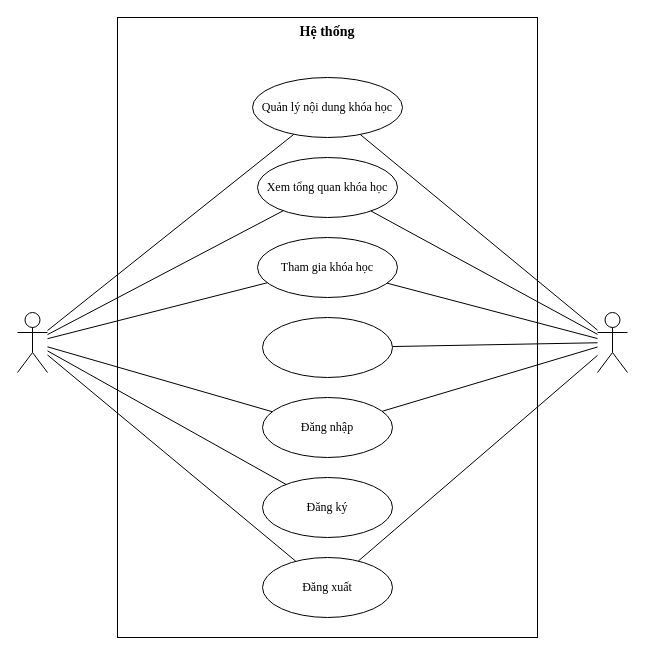
This 646x655 diagram has some shape labels left out. Here are the shapes that lost their labels. From the top down, the centre of each, then its label:
At (x=32, y=342): "User".
At (x=327, y=347): "Thống kê".
At (x=612, y=342): "Admin".
